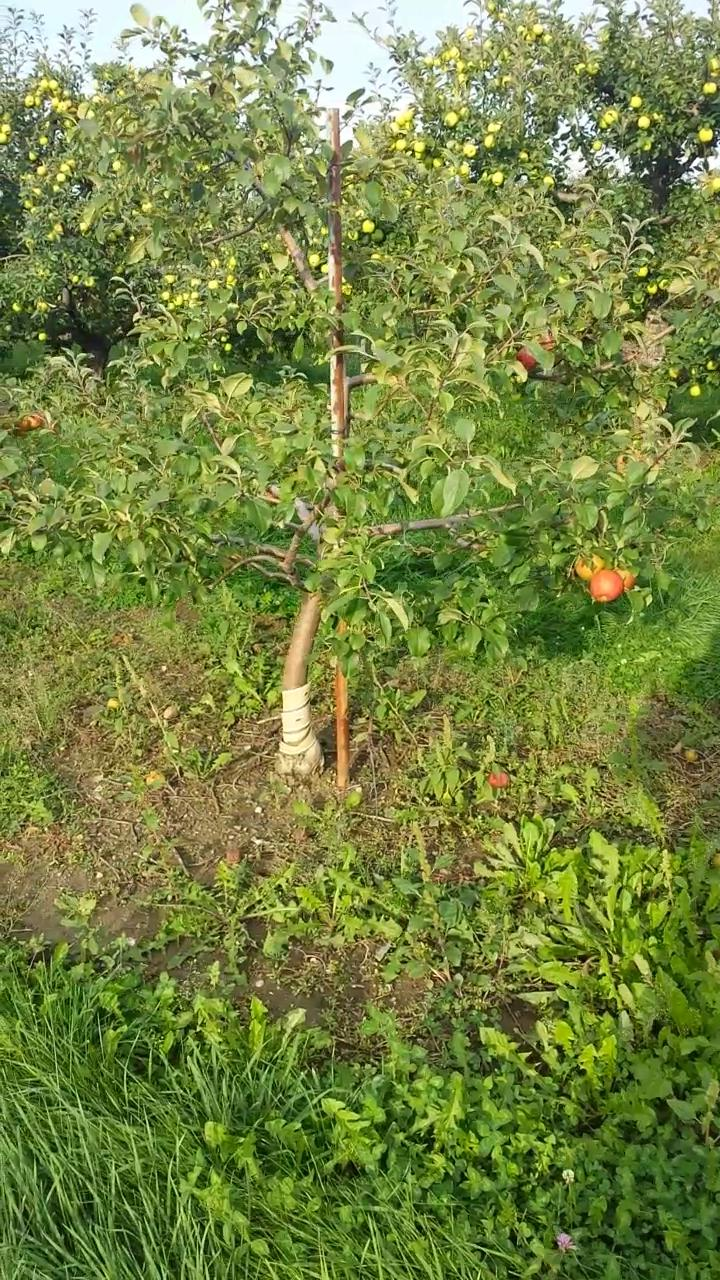Apple: (587, 568, 623, 602), (16, 413, 46, 438), (575, 552, 601, 580), (516, 346, 536, 372), (618, 570, 635, 588), (540, 332, 557, 349)
